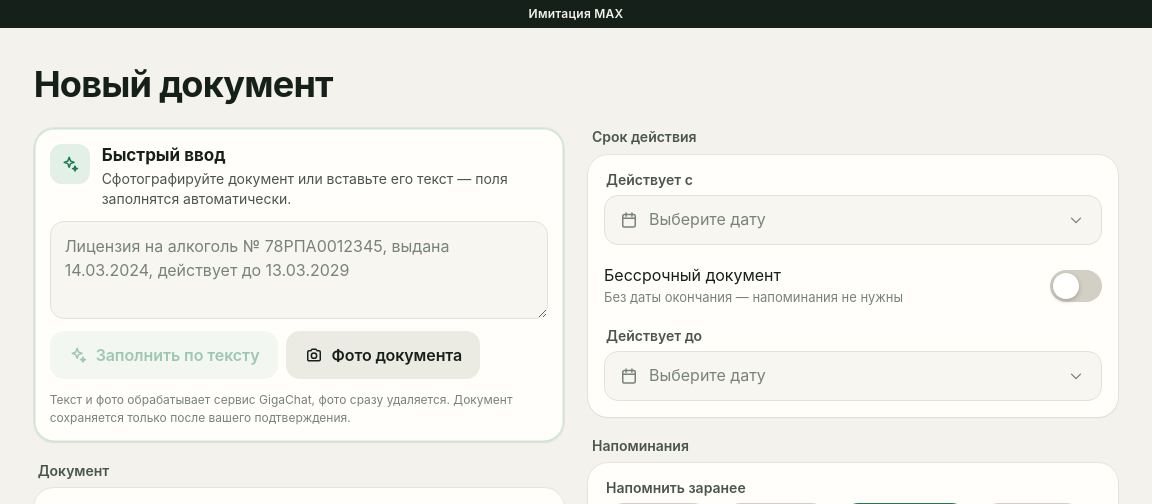
Test: T-FE-LLM: быстрый ввод документа по тексту (FR-21) › заполняет форму распознанными полями и не сохраняет документ
The image size is (1152, 504).
Type "Лицензия № 78РПА0012345 до 13.03.2029" into the text box named "Текст документа для распознавания".
click(299, 270); type("Лицензия № 78РПА0012345 до 13.03.2029")  # box [51,222,547,318]
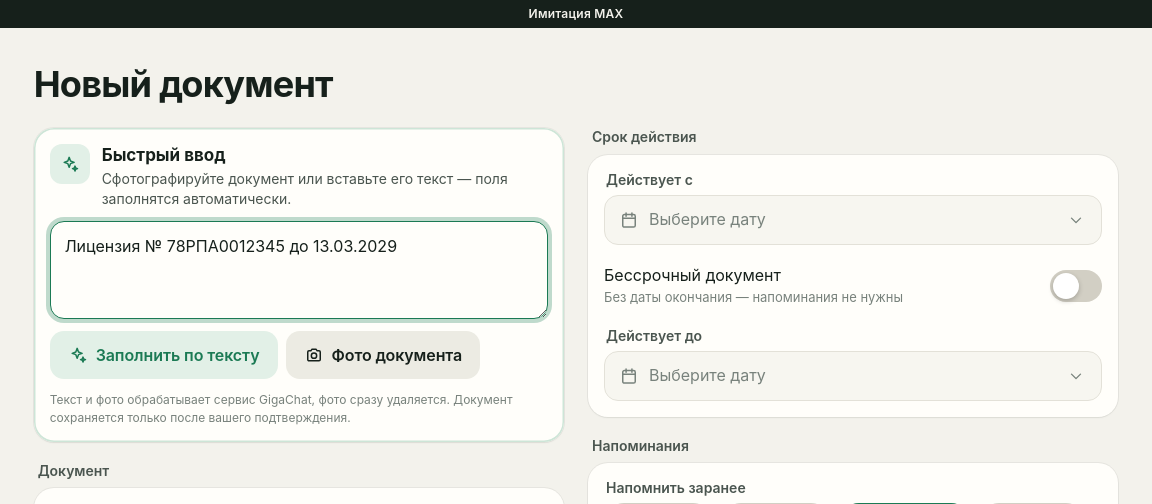
Click the button "Заполнить по тексту".
click(164, 355)  # box [50,331,278,379]
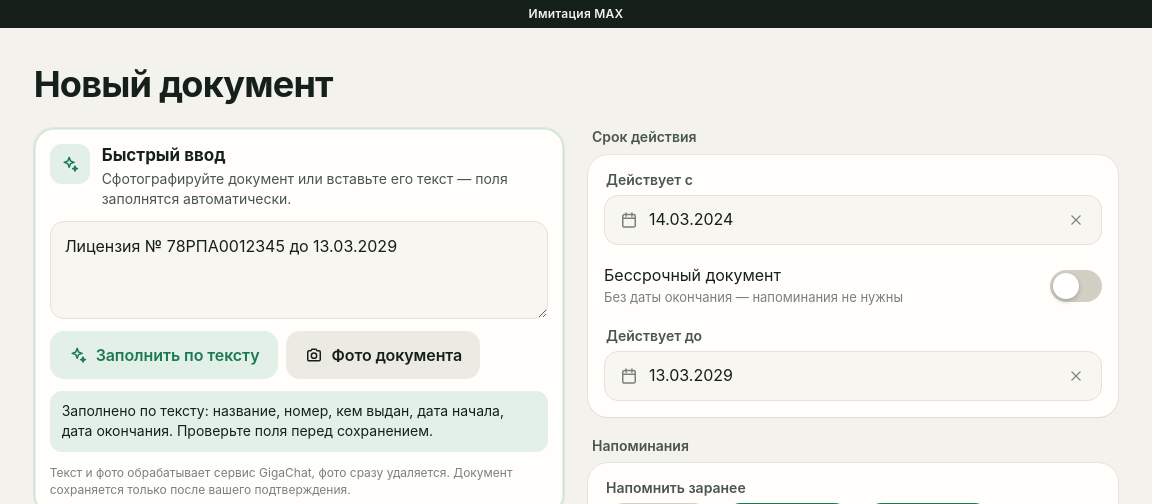
Check: the field labelled "Действует до" holds "13.03.2029", box [639,352,1056,400]
Check: the text "Проверьте поля перед сохранением" is shown, box [62,402,504,439]
